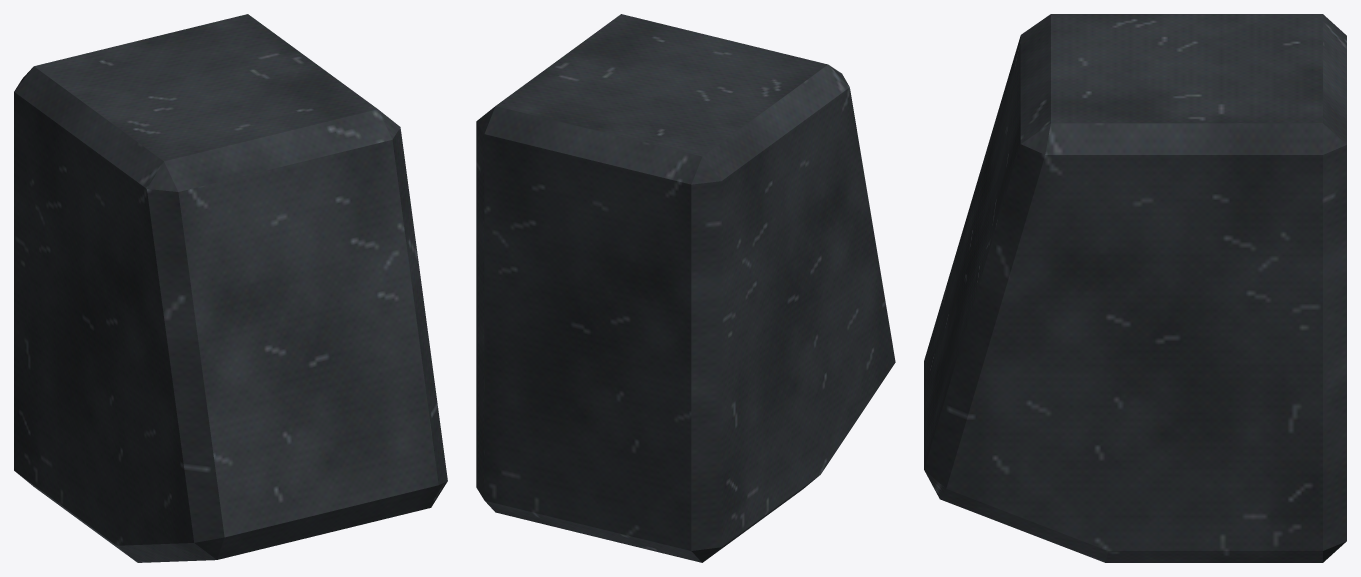
File: DoorKeypad.fbx
3 renders of one model, left to right at view 1: azimuth 30°, elevation 25°; view 2: azimuth 150°, elevation 25°; view 3: azimuth 270°, elevation 25°, orthographic. The views are drawn at different scales.
Parts seen in each view (by area): view 1: DoorKeypad; view 2: DoorKeypad; view 3: DoorKeypad.
Part boxes in pixels (<box>): DoorKeypad: <box>14,14,447,562</box>; DoorKeypad: <box>476,14,895,562</box>; DoorKeypad: <box>924,14,1346,562</box>.
Size of the model in its own units: 0.2564 by 0.4061 by 0.3538.
1 material, 1 textured.
